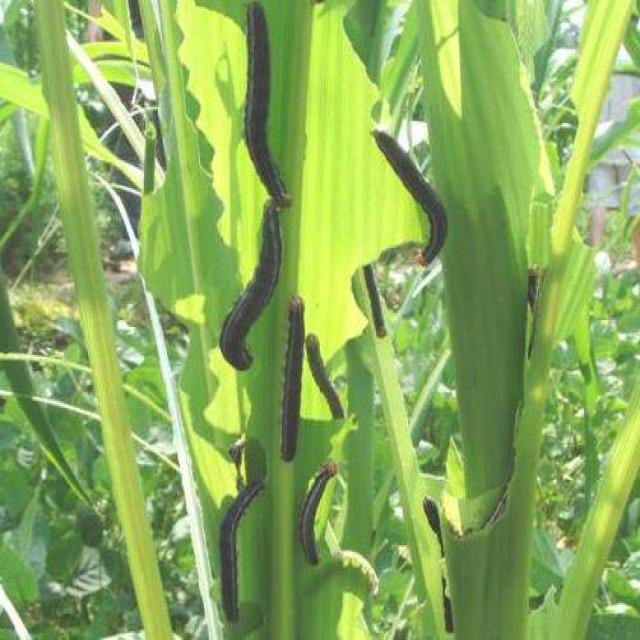pest: (376, 132, 452, 267), (246, 9, 299, 202), (225, 209, 280, 373), (217, 472, 262, 609), (301, 466, 346, 569), (310, 333, 346, 429), (358, 267, 398, 343), (284, 300, 300, 457), (533, 263, 547, 335)
